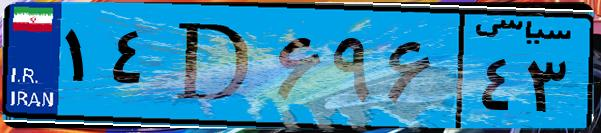1: (57, 26, 110, 100)
3: (525, 38, 570, 115)
4: (475, 38, 525, 113), (110, 28, 158, 98)
6: (270, 28, 330, 110), (385, 28, 445, 110)
9: (330, 28, 385, 110)
D: (158, 12, 270, 120)
